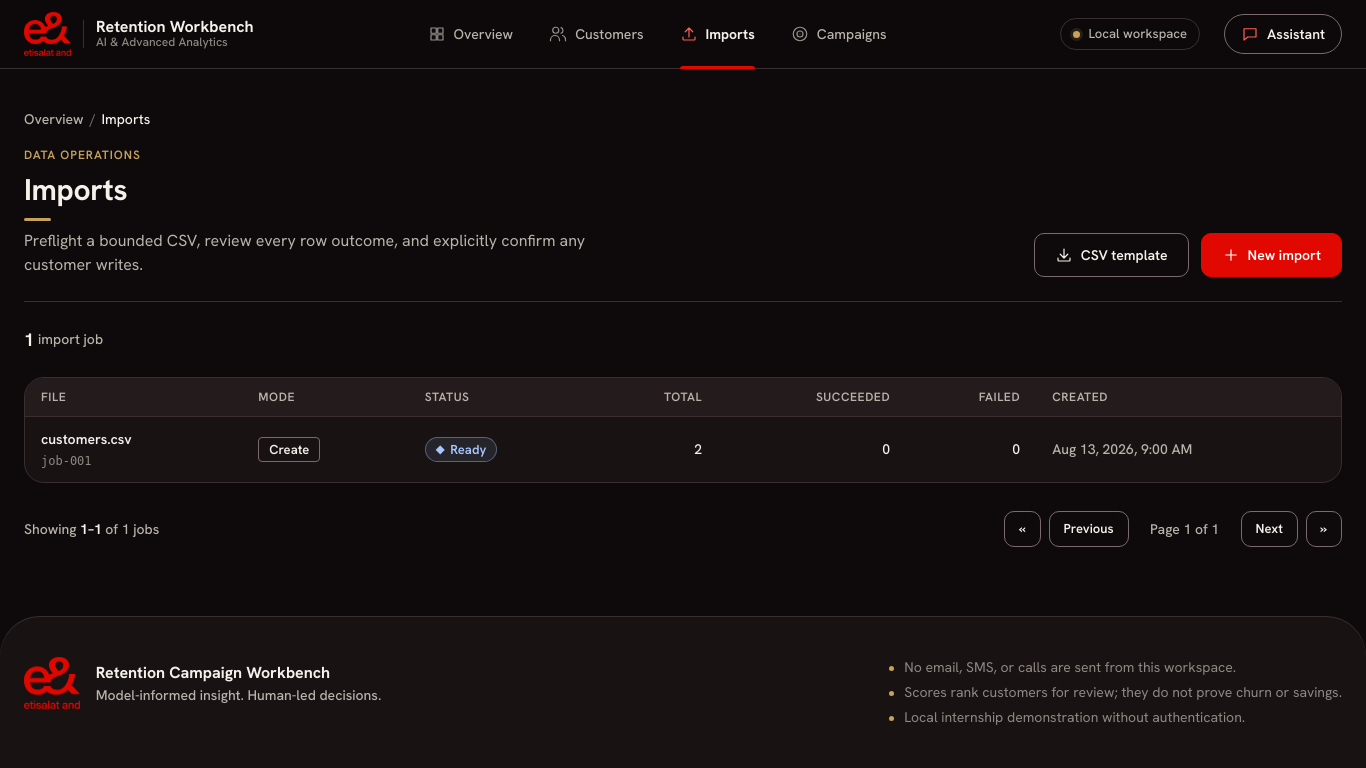
import browser journey › shows import history and polls a ready job
This screenshot has width=1366, height=768.
Check: the heading "Imports" is shown, box [24,170,127,209]
Click the link "customers.csv". click: x=86, y=439
box: [41,430,132,448]
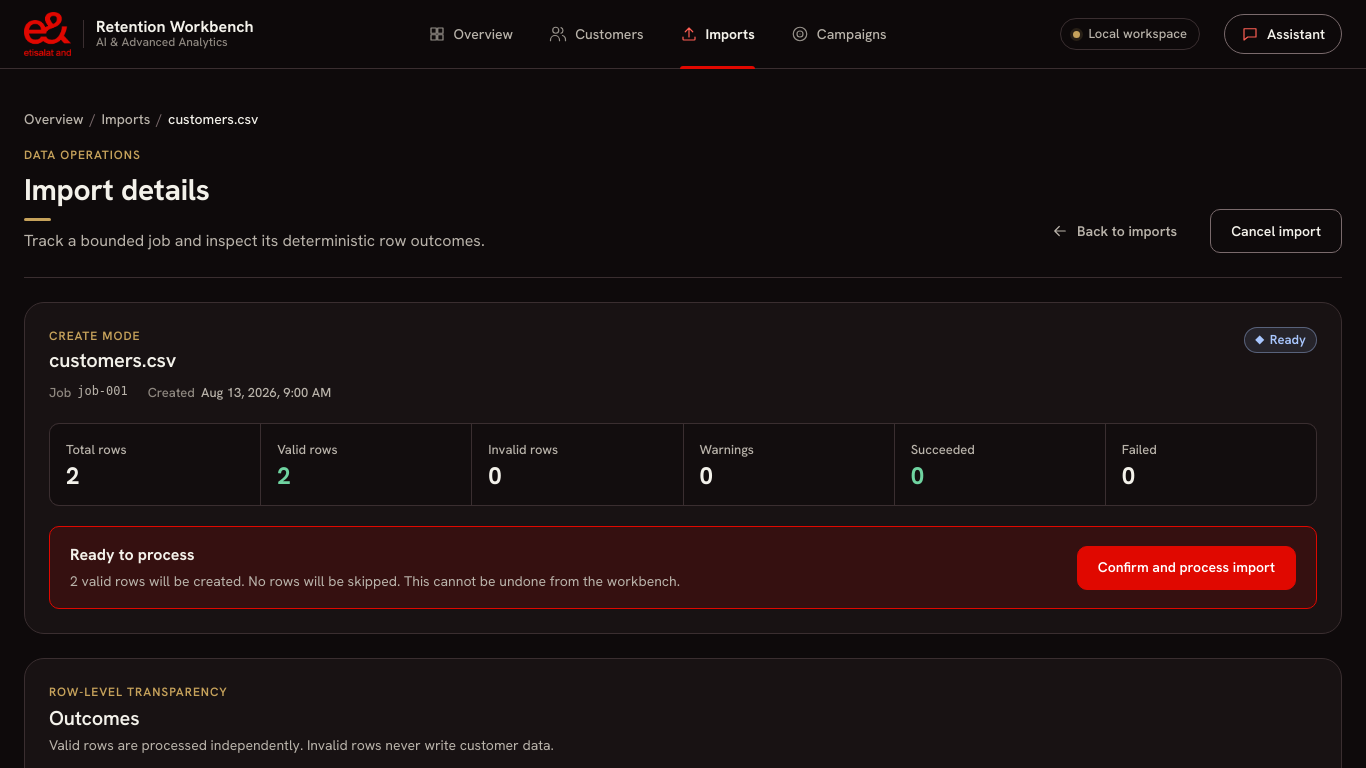
Check: the text "Ready" is shown, box [1270,331,1306,348]
Check: the heading "Import details" is shown, box [24,170,210,209]
